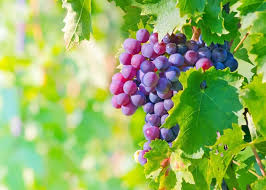Black grapes: (113, 27, 238, 167)
